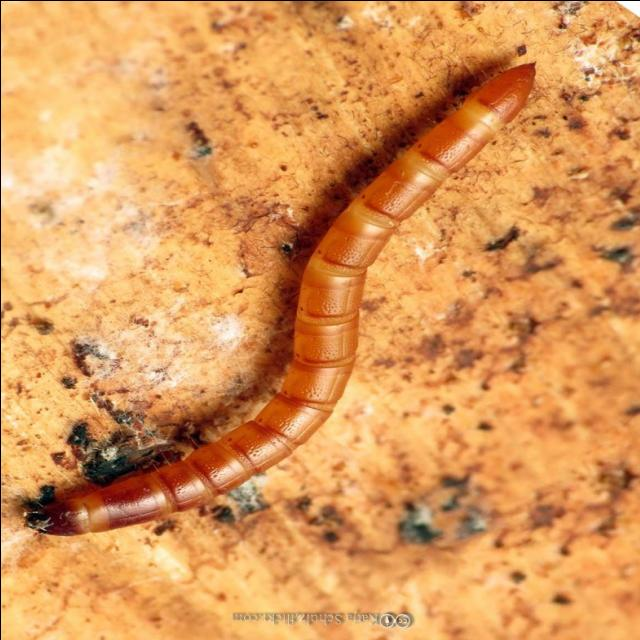wireworm: (26, 52, 546, 538)
